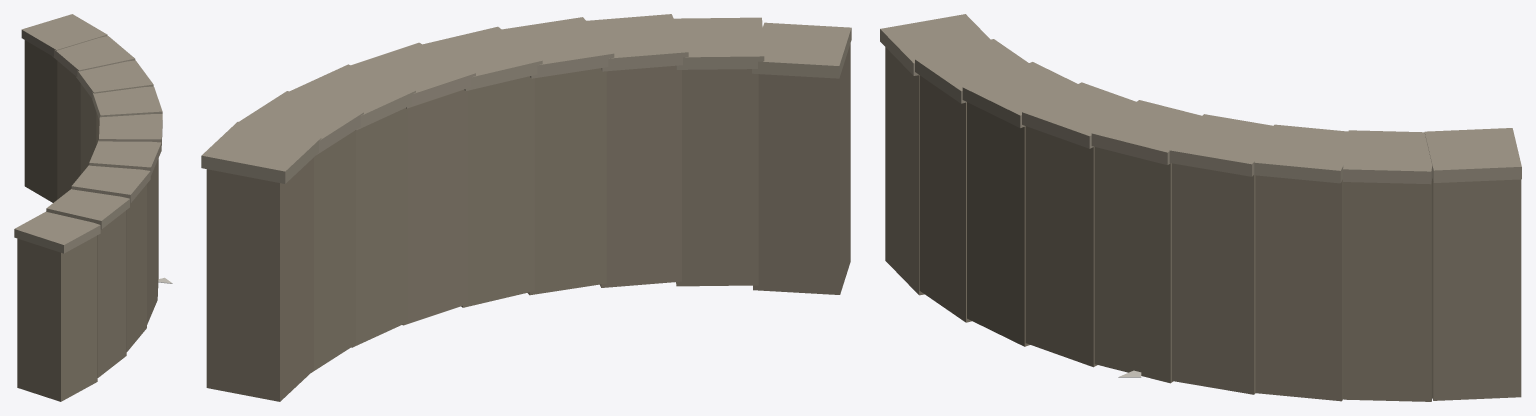
The model's file is eb_wallstone.glb.
3 renders of one model, left to right at view 1: azimuth 30°, elevation 25°; view 2: azimuth 150°, elevation 25°; view 3: azimuth 270°, elevation 25°, orthographic. The views are drawn at different scales.
Visible parts, largest first — view 1: eb_wallstone_lod0; view 2: eb_wallstone_lod0; view 3: eb_wallstone_lod0.
Part boxes in pixels (x1,y1,x2,y2): eb_wallstone_lod0: [14, 14, 172, 401]; eb_wallstone_lod0: [201, 14, 851, 401]; eb_wallstone_lod0: [880, 14, 1521, 401].
Size of what is drawn, in the model's own units: 3.71 by 2.46 by 5.55.
